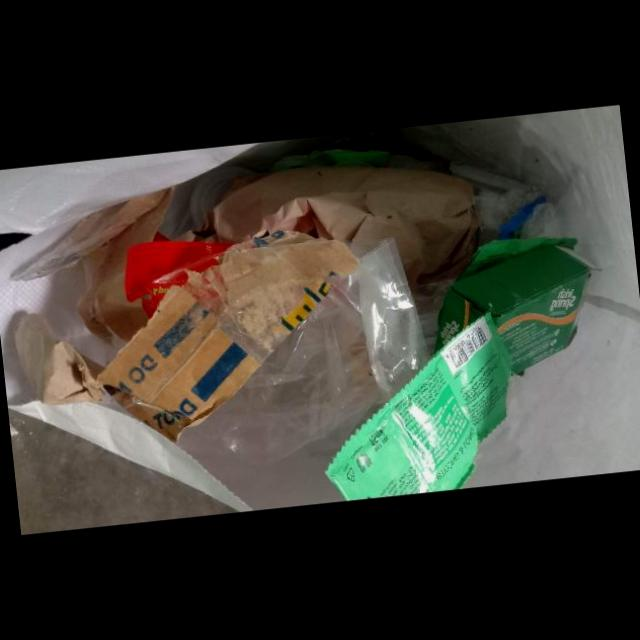carton: (432, 243, 601, 374)
giay: (213, 165, 480, 287)
goi_nhua_nho: (324, 312, 511, 500), (458, 236, 577, 278)
tui_ni_long: (173, 238, 426, 468)
